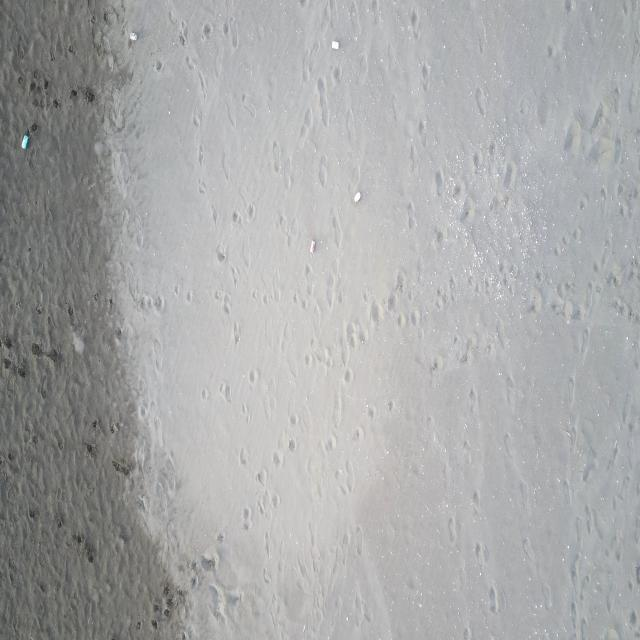Garbage: (20, 129, 28, 148), (308, 240, 315, 252), (352, 192, 360, 200), (128, 32, 136, 40), (332, 40, 339, 48)
